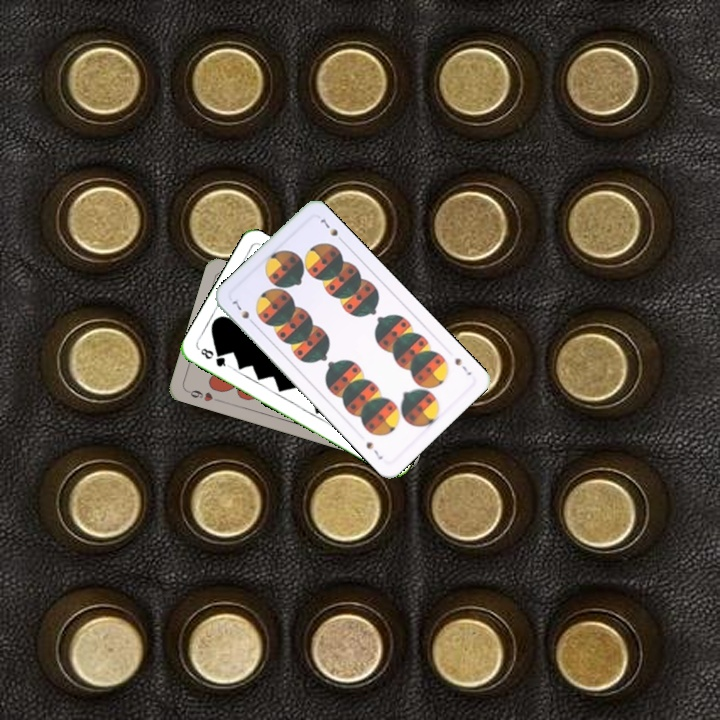G8: (196, 344, 232, 370)
H9: (183, 386, 223, 404)
S7: (228, 297, 258, 328), (451, 354, 474, 378)
